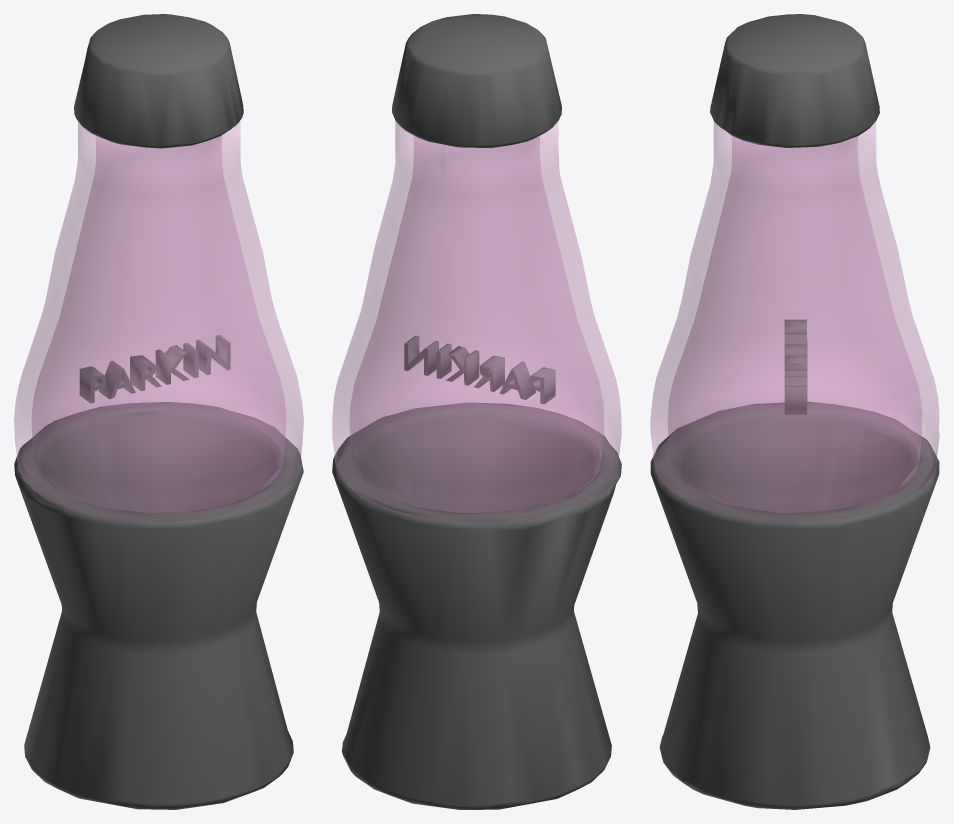
File: 2lava2lampy-transformed.glb
The picture shows the model from 3 angles, left to right: view 1: azimuth 30°, elevation 25°; view 2: azimuth 150°, elevation 25°; view 3: azimuth 270°, elevation 25°; orthographic projection.
Visible parts, largest first — view 1: Base, Glass, Cap, Parkin; view 2: Base, Glass, Cap, Parkin; view 3: Base, Glass, Cap, Parkin.
Part boxes in pixels (<box>): Base: <box>14,402,303,809</box>; Glass: <box>14,120,303,522</box>; Cap: <box>74,14,243,148</box>; Parkin: <box>79,335,230,403</box>; Base: <box>332,402,621,809</box>; Glass: <box>332,121,621,523</box>; Cap: <box>392,14,561,148</box>; Parkin: <box>404,335,555,403</box>; Base: <box>650,402,939,809</box>; Glass: <box>650,122,939,523</box>; Cap: <box>710,14,879,147</box>; Parkin: <box>784,319,807,414</box>.
Size of the model in its own units: 2.32 by 6.3 by 2.31.
